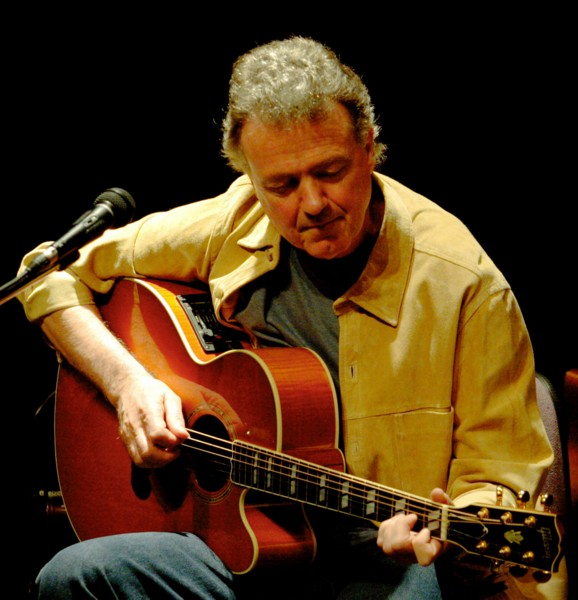guitar: (51, 275, 566, 581)
